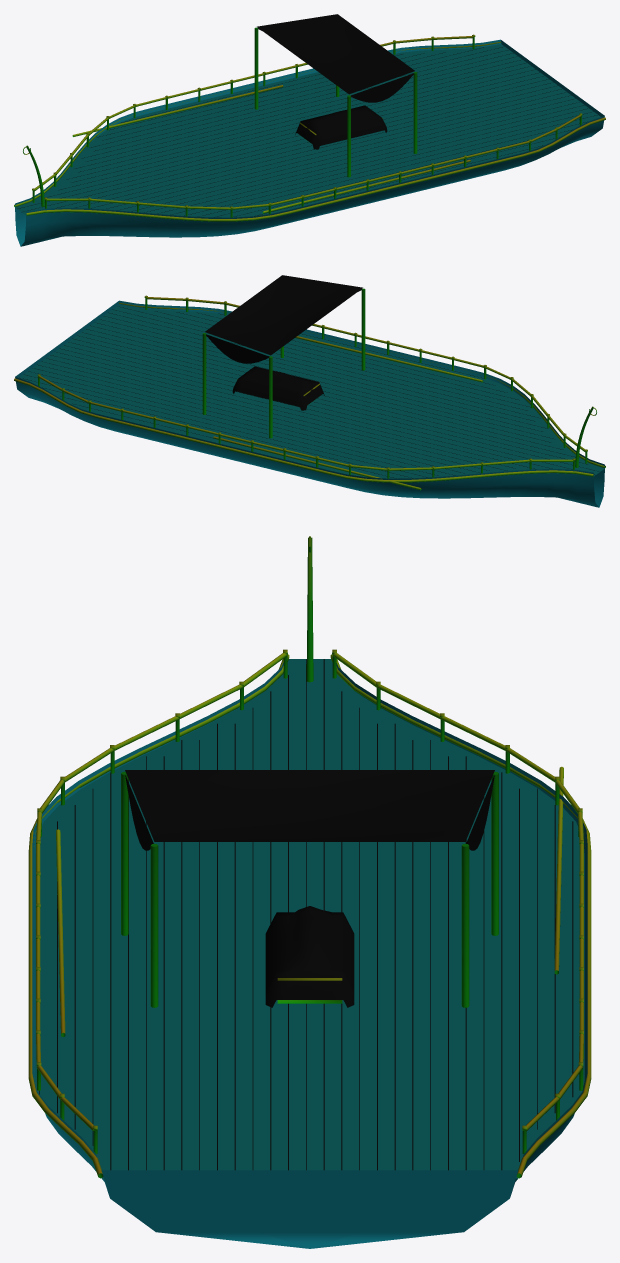
File: bridal_barge_sea.glb
3 renders of one model, top to bottom at view 1: azimuth 30°, elevation 25°; view 2: azimuth 150°, elevation 25°; view 3: azimuth 270°, elevation 25°, orthographic. The views are drawn at different scales.
Parts seen in each view (by area): view 1: bridal_barge_sea; view 2: bridal_barge_sea; view 3: bridal_barge_sea.
Part boxes in pixels (<box>): bridal_barge_sea: <box>14,14,605,246</box>; bridal_barge_sea: <box>14,275,605,507</box>; bridal_barge_sea: <box>28,536,591,1248</box>.
Size of what is drawn, in the model's own units: 16.61 by 3.5 by 7.59.
